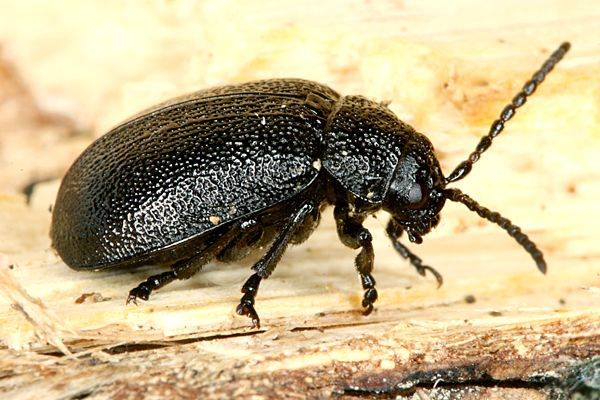Galeruca_tanaceti: (37, 37, 577, 329)
